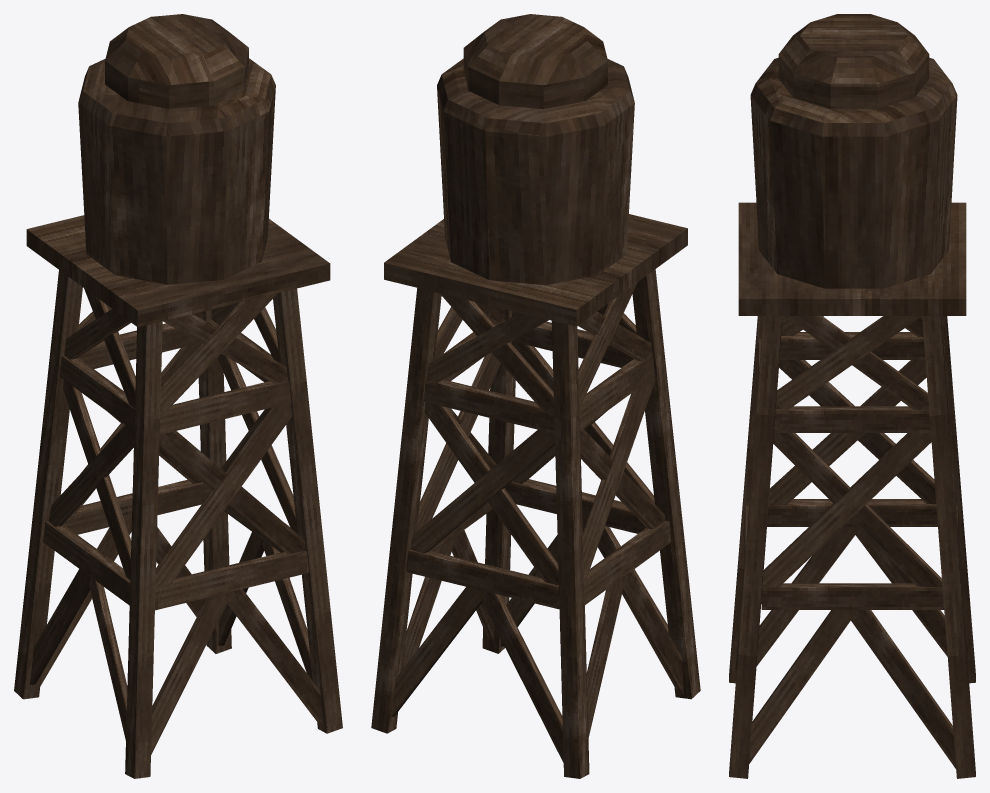
Rendered from Water_Tower.fbx.
3 renders of one model, left to right at view 1: azimuth 30°, elevation 25°; view 2: azimuth 150°, elevation 25°; view 3: azimuth 270°, elevation 25°, orthographic. The views are drawn at different scales.
Visible parts, largest first — view 1: Water_Tower; view 2: Water_Tower; view 3: Water_Tower.
Boxes of the visible parts, <box> form: Water_Tower: <box>14,14,342,778</box>; Water_Tower: <box>371,14,700,778</box>; Water_Tower: <box>729,14,975,778</box>.
Size of the model in its own units: 260 by 805 by 260.
